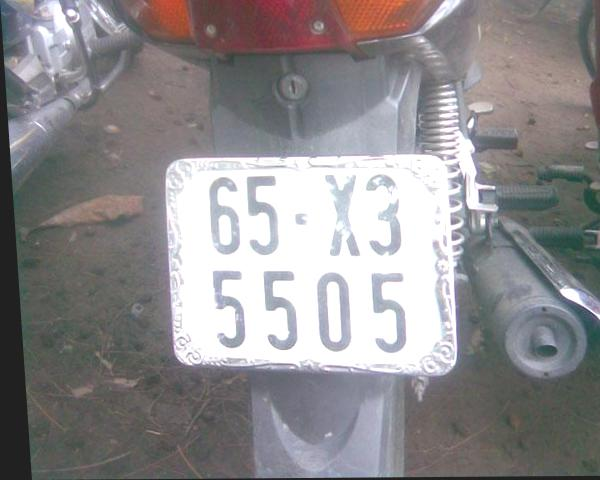License_Plate: (172, 161, 449, 374)
